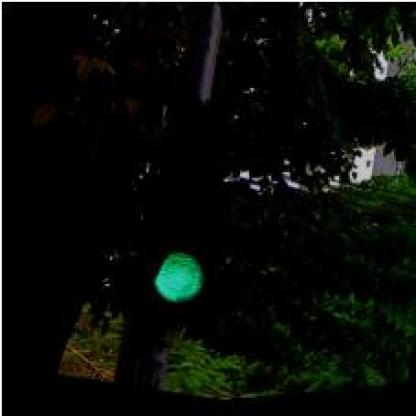green: (114, 98, 253, 331)
